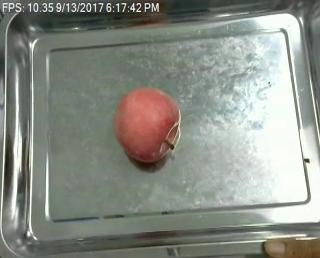apple: (111, 86, 182, 161)
